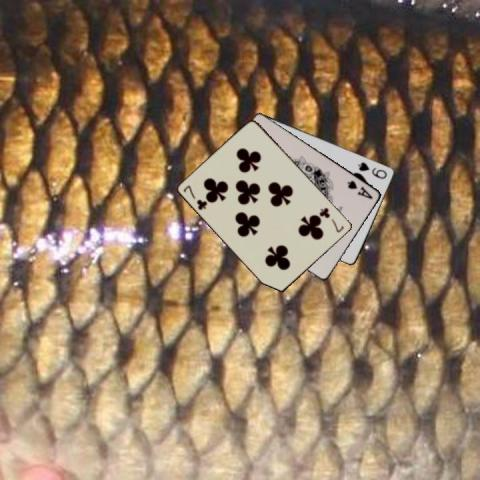7c: (318, 205, 346, 234), (181, 182, 209, 211)
9s: (354, 159, 388, 180)
As: (345, 177, 374, 201)
